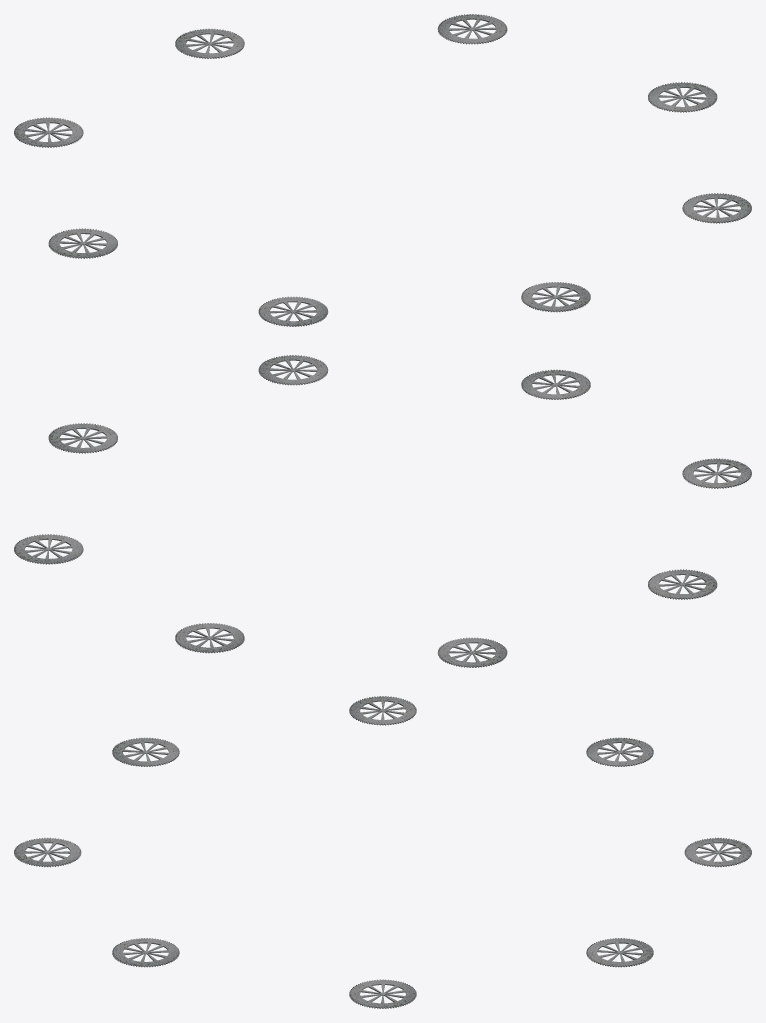
3 views of the same model, one above another, from view 1: azimuth 30°, elevation 25°; view 2: azimuth 150°, elevation 25°; view 3: azimuth 270°, elevation 25° (orthographic). The views are drawn at different scales.
Visible parts, largest first — view 1: 13_HZ; view 2: 13_HZ; view 3: 13_HZ.
Part boxes in pixels (<box>): 13_HZ: <box>14,14,751,326</box>; 13_HZ: <box>14,355,751,667</box>; 13_HZ: <box>14,696,751,1008</box>.
Bounding box in the file's own units: 12825 × 20 × 12825.
